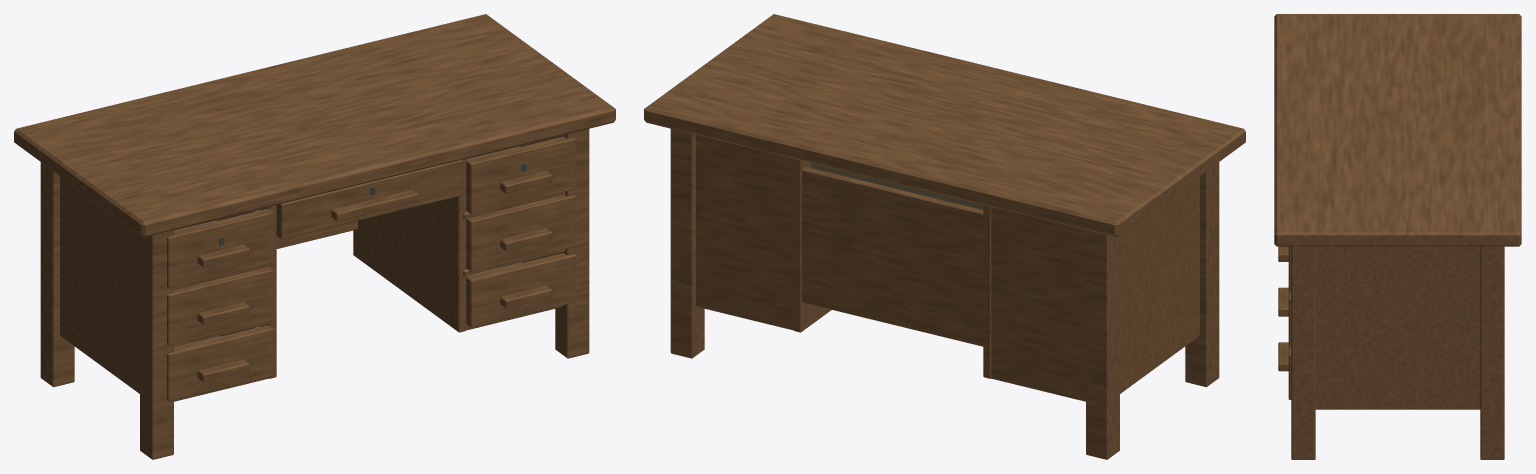
Rendered from Teacher_Desk.glb.
3 renders of one model, left to right at view 1: azimuth 30°, elevation 25°; view 2: azimuth 150°, elevation 25°; view 3: azimuth 270°, elevation 25°, orthographic. The views are drawn at different scales.
Parts seen in each view (by area): view 1: Teacher_Desk_Top.001, Pedestal_Side.004, Pedestal_Side.006, Desk_Leg.004, Drawer_Front.007, Drawer_Front.011, Drawer_Front.012, Drawer_Front.008, Drawer_Front.009, Drawer_Front.013, Drawer_Front.010, Desk_Leg.005 (+10 smaller); view 2: Teacher_Desk_Top.001, Desk_Modesty_Back.001, Pedestal_Back.003, Pedestal_Back.002, Pedestal_Side.004, Desk_Leg.005, Desk_Leg.007, Desk_Leg.004, Pedestal_Side.006, Pedestal_Side.005, Drawer_Back.007; view 3: Teacher_Desk_Top.001, Pedestal_Side.007, Desk_Leg.006, Desk_Leg.007, Drawer_Pull.012, Drawer_Pull.013.
Boxes of the visible parts, x1,y1,x2,y2 form: Teacher_Desk_Top.001: [14, 14, 615, 237]; Pedestal_Side.004: [60, 176, 139, 393]; Pedestal_Side.006: [353, 159, 466, 332]; Desk_Leg.004: [140, 230, 173, 459]; Drawer_Front.007: [276, 160, 462, 239]; Drawer_Front.011: [466, 136, 575, 214]; Drawer_Front.012: [466, 194, 575, 271]; Drawer_Front.008: [167, 208, 273, 288]; Drawer_Front.009: [167, 266, 273, 345]; Drawer_Front.013: [466, 253, 575, 327]; Drawer_Front.010: [167, 325, 273, 401]; Desk_Leg.005: [40, 162, 74, 387]; Teacher_Desk_Top.001: [644, 14, 1245, 237]; Desk_Modesty_Back.001: [802, 167, 983, 346]; Pedestal_Back.003: [696, 135, 793, 330]; Pedestal_Back.002: [991, 207, 1085, 401]; Pedestal_Side.004: [1120, 176, 1199, 393]; Desk_Leg.005: [1086, 230, 1119, 459]; Desk_Leg.007: [670, 129, 704, 358]; Desk_Leg.004: [1185, 162, 1219, 387]; Pedestal_Side.006: [793, 158, 831, 332]; Pedestal_Side.005: [983, 205, 991, 378]; Drawer_Back.007: [814, 164, 983, 209]; Teacher_Desk_Top.001: [1274, 14, 1521, 246]; Pedestal_Side.007: [1315, 246, 1480, 409]; Desk_Leg.006: [1291, 246, 1315, 459]; Desk_Leg.007: [1480, 246, 1504, 459]; Drawer_Pull.012: [1278, 287, 1288, 316]; Drawer_Pull.013: [1278, 342, 1288, 371].
Bounding box in the file's own units: 1.6 × 0.8 × 0.76.
Materials: 4 (4 with a texture image).
